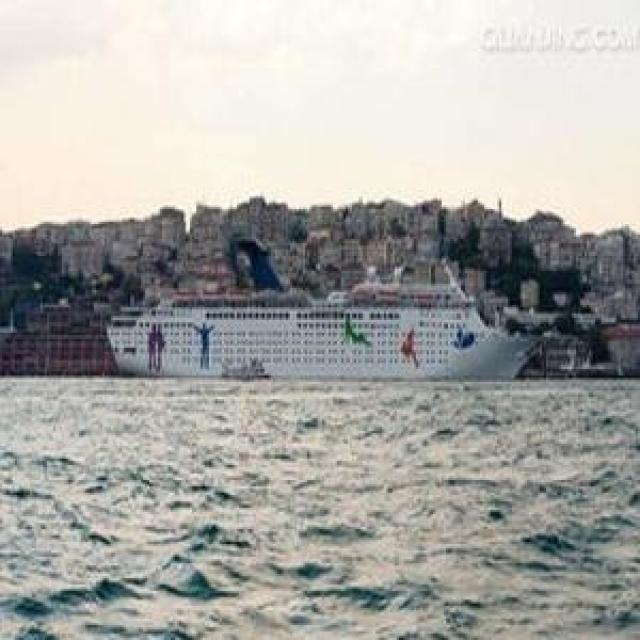passenger ship: (81, 259, 528, 401)
